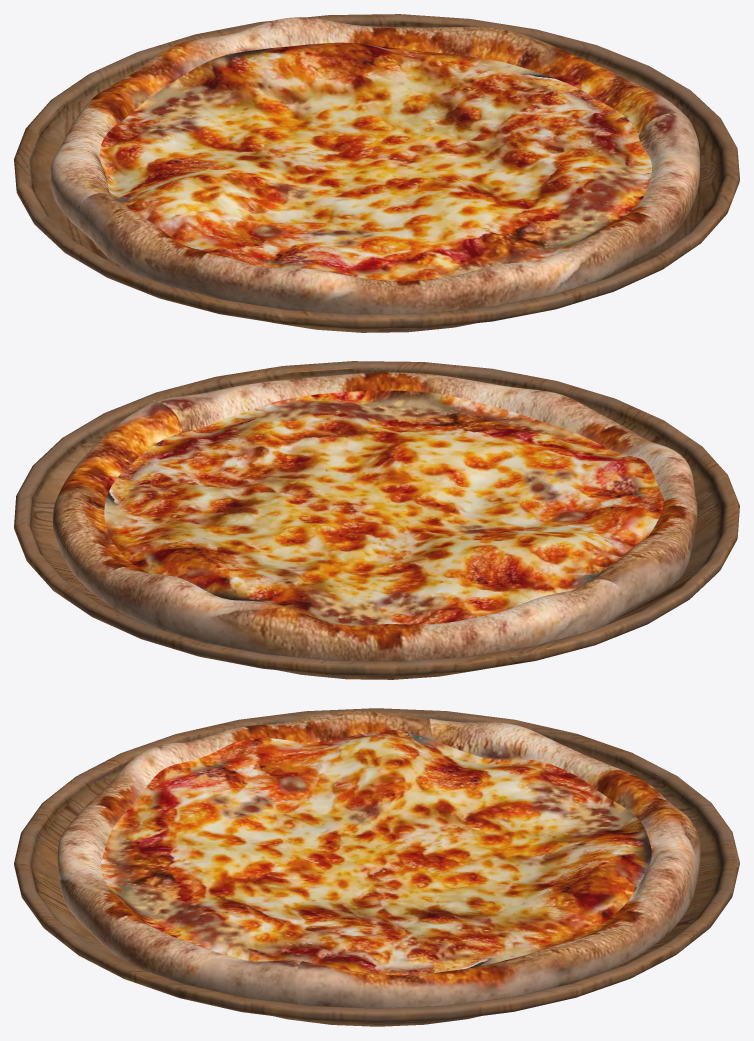
File: pizza-optimized.glb
3 views of the same model, one above another, from view 1: azimuth 30°, elevation 25°; view 2: azimuth 150°, elevation 25°; view 3: azimuth 270°, elevation 25° (orthographic).
Visible parts, largest first — view 1: piza_low_01:Group259, Object_2_Material__2.001_0; view 2: piza_low_01:Group259, Object_2_Material__2.001_0; view 3: piza_low_01:Group259, Object_2_Material__2.001_0.
Boxes of the visible parts, <box> form: piza_low_01:Group259: <box>50,17,700,314</box>; Object_2_Material__2.001_0: <box>14,14,739,332</box>; piza_low_01:Group259: <box>52,372,697,661</box>; Object_2_Material__2.001_0: <box>14,361,739,679</box>; piza_low_01:Group259: <box>57,711,700,1008</box>; Object_2_Material__2.001_0: <box>14,708,739,1026</box>.
Size of the model in its own units: 0.7141 by 0.1073 by 0.7141.
2 materials, 2 textured.
